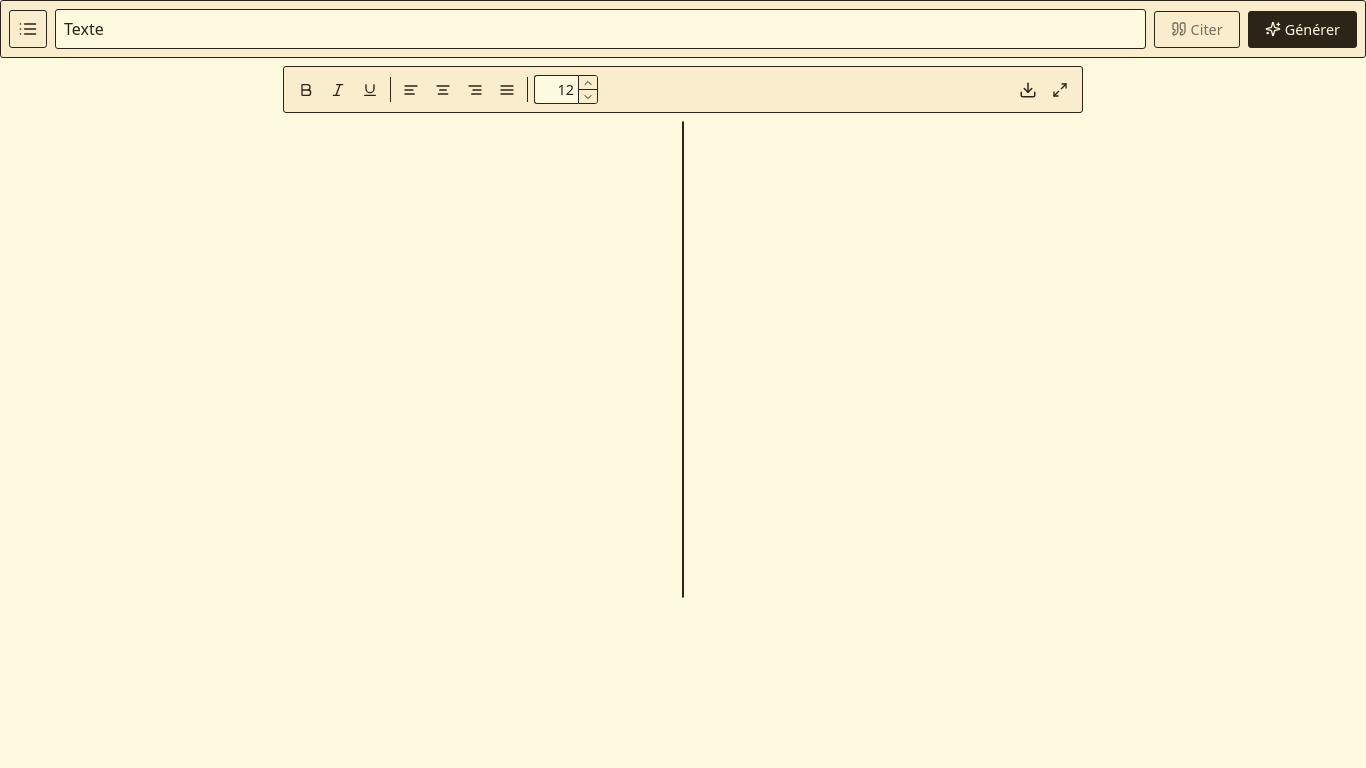
WritingView › inserts a picked citation, lists it, and removes it manually
Expected: the field named "Nom du texte" is shown, [55,9,1146,49]
Click the button "Citer": (1197, 29) [1154,10,1240,48]
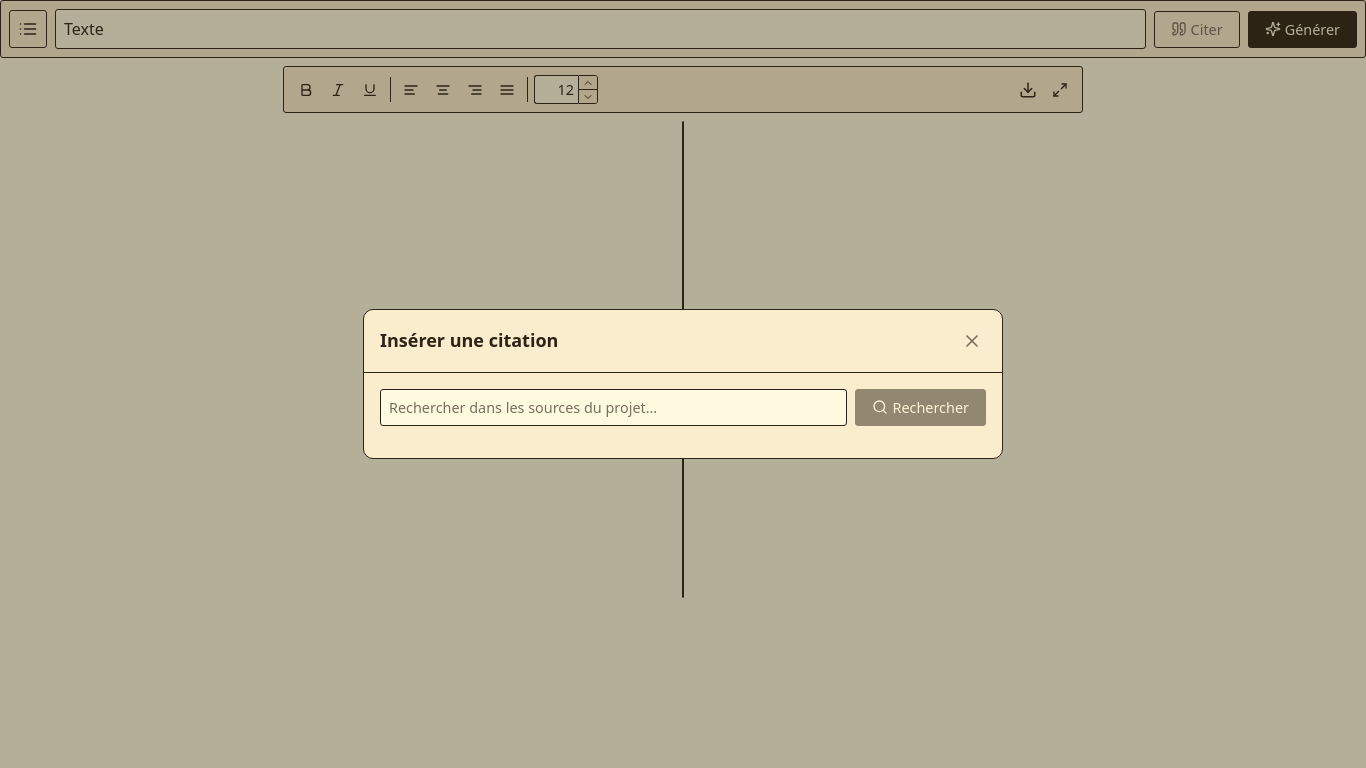
Expected: the dialog "Insérer une citation Rechercher" is shown
In the field named "Rechercher une citation": (614, 407) [380,389,848,426], type "neural"
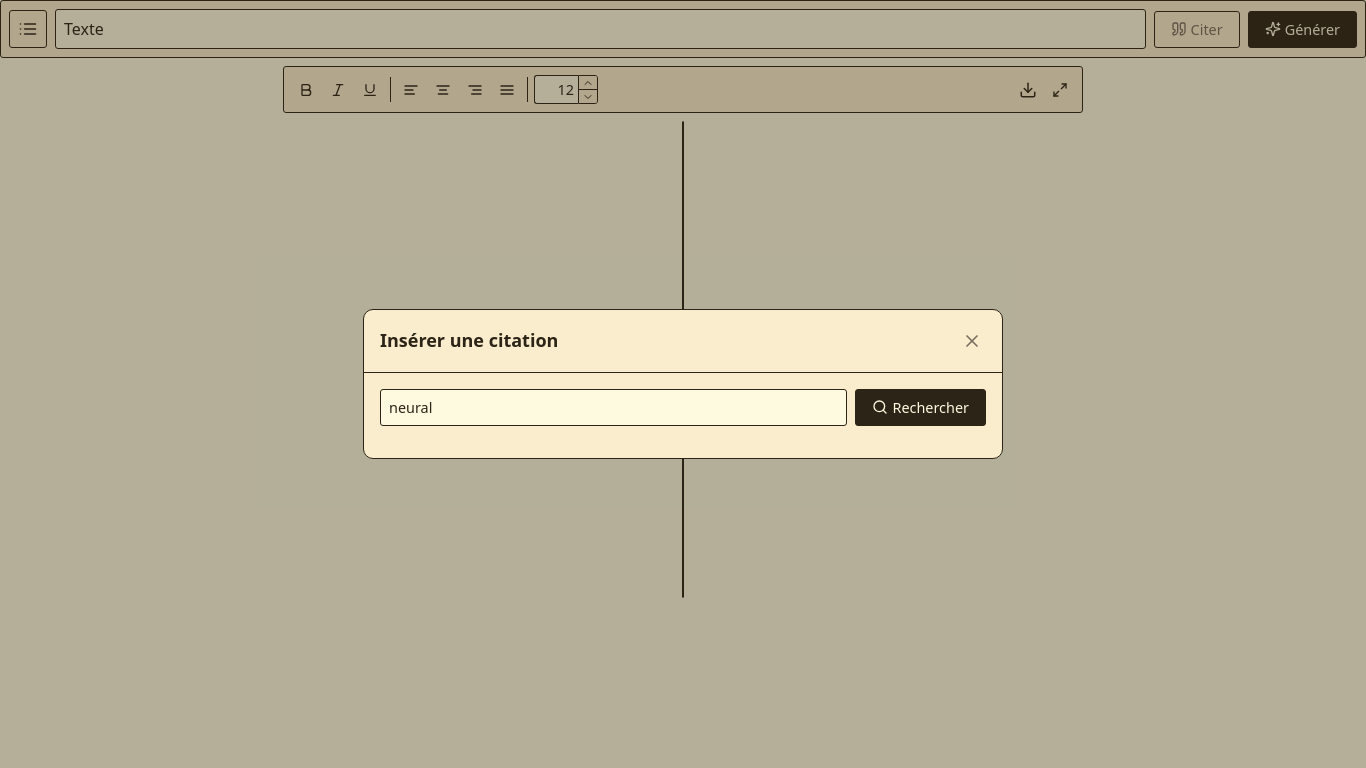
Click the button "Rechercher": (921, 407) [856,389,986,426]
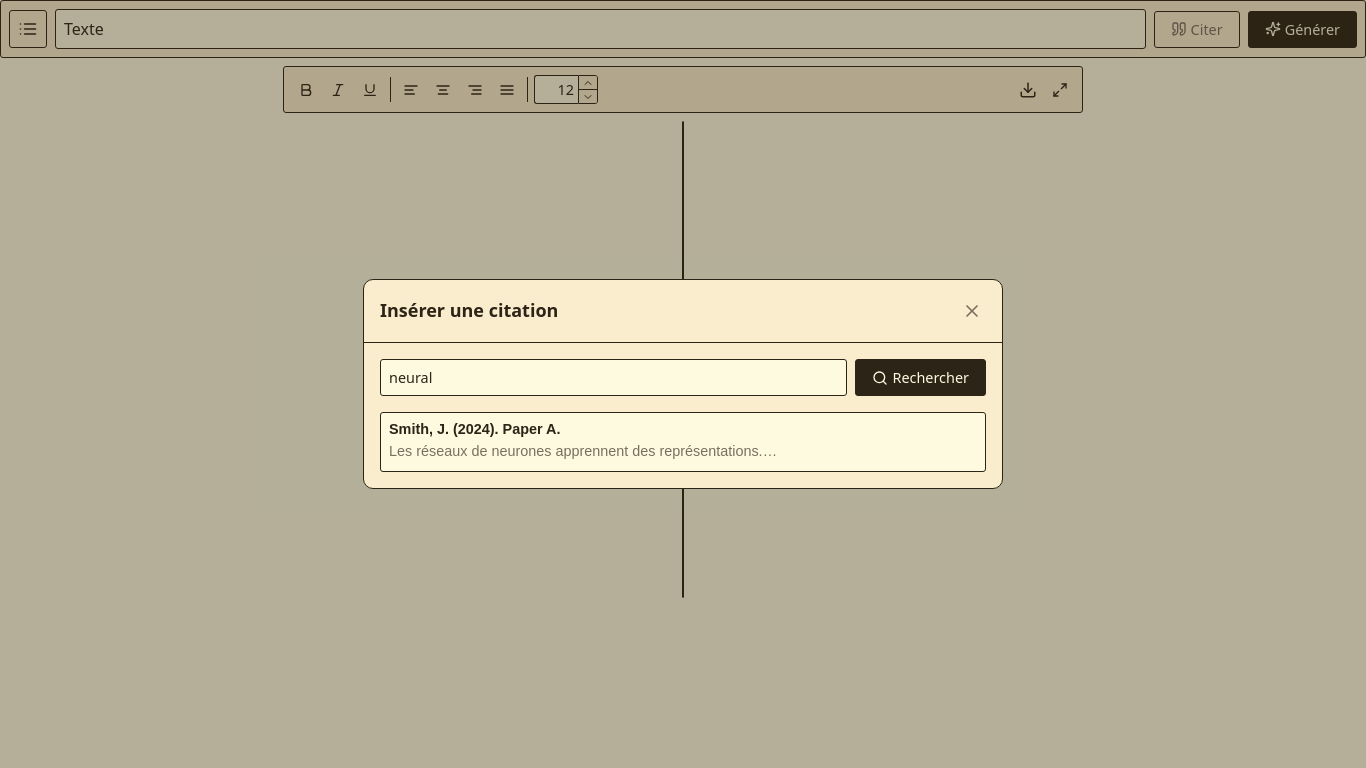
Click the text "Smith, J. (2024). Paper A.": (475, 429) [389,421,560,437]
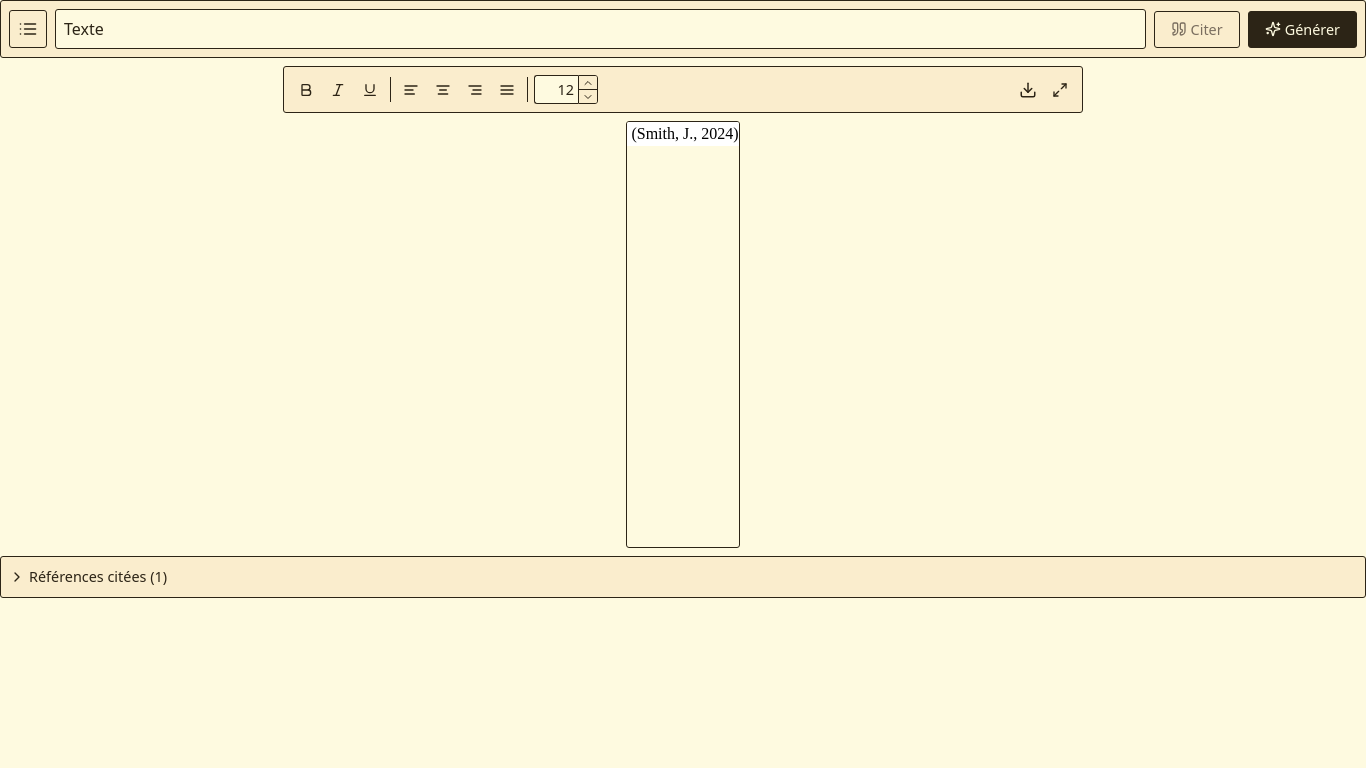
// The references dropdown appears collapsed — expand it to reveal the list.
Click the button "Références citées (1)": (92, 577) [9,565,1357,589]
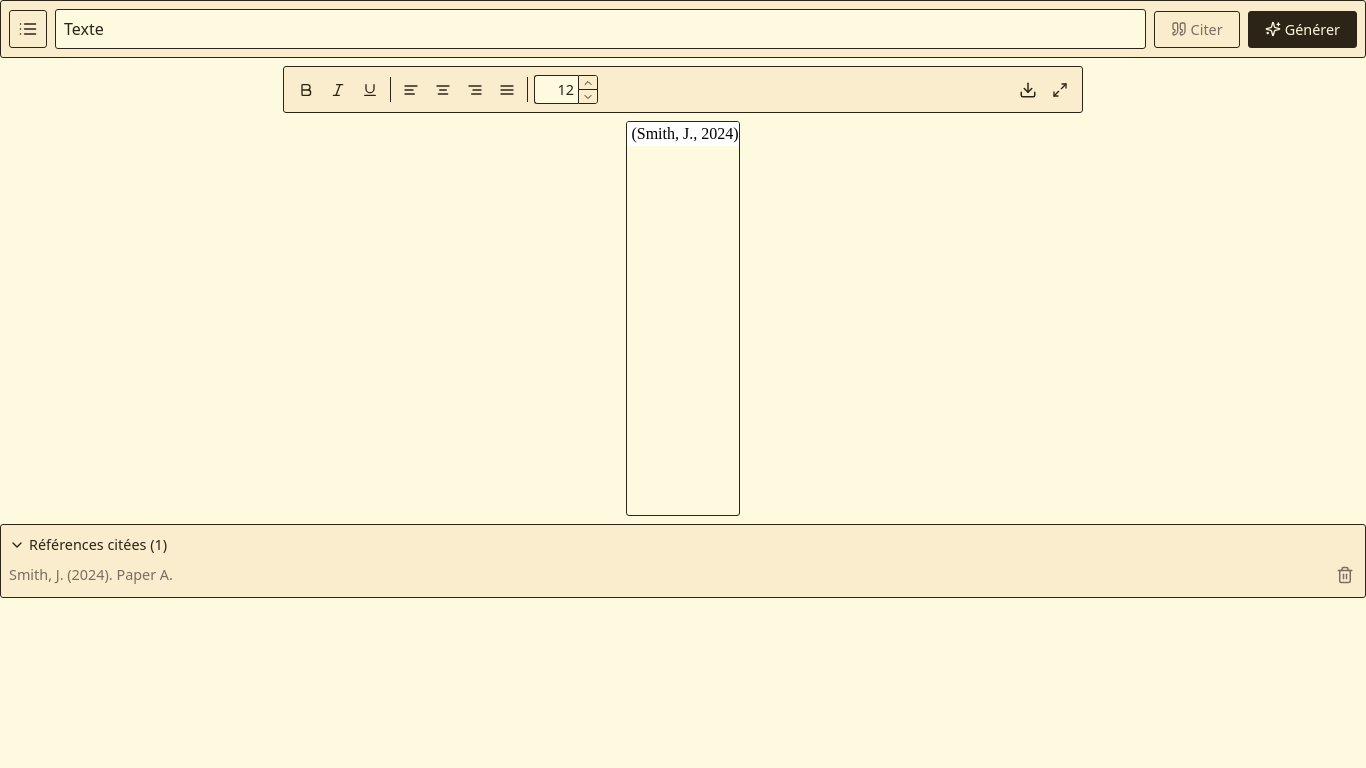
Click the button named "supprimer la référence": (1345, 575) [1333,563,1357,587]
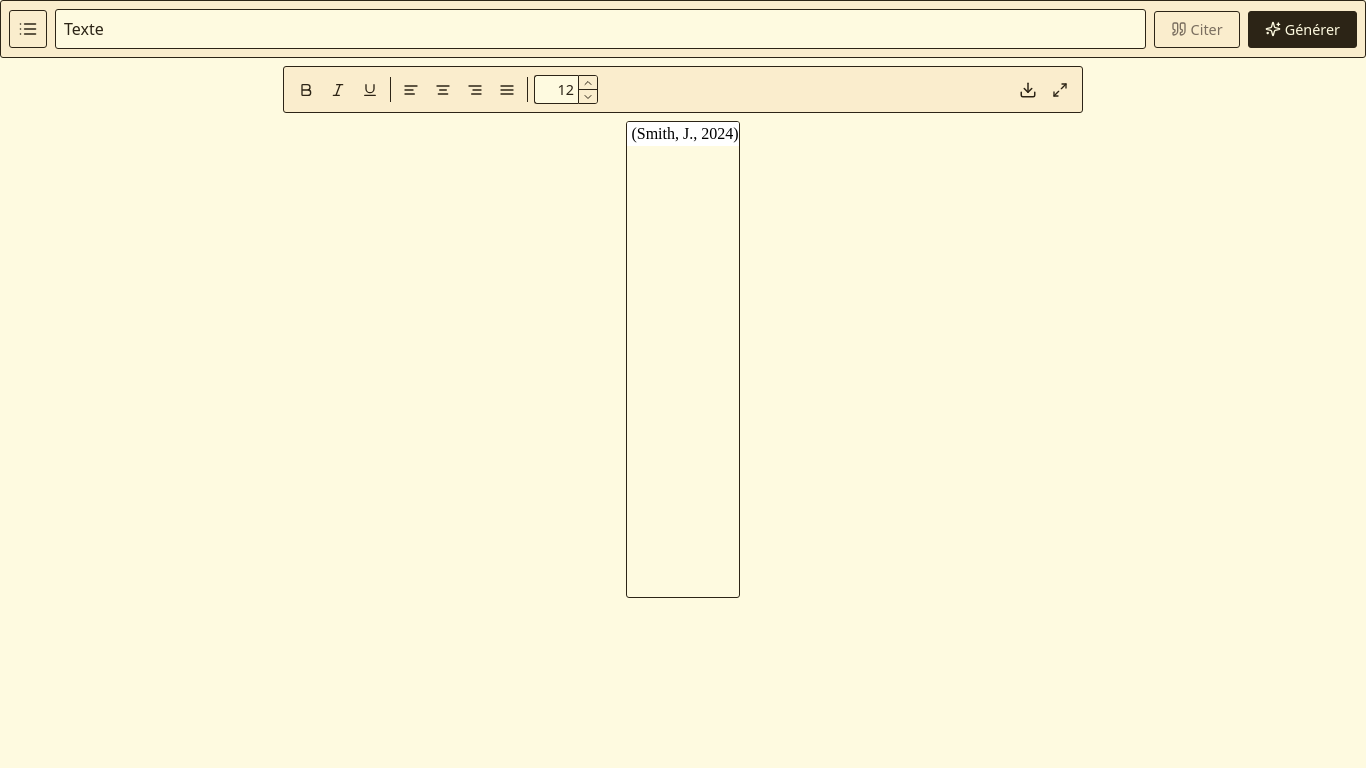
Expected: the button "Références citées" is gone
